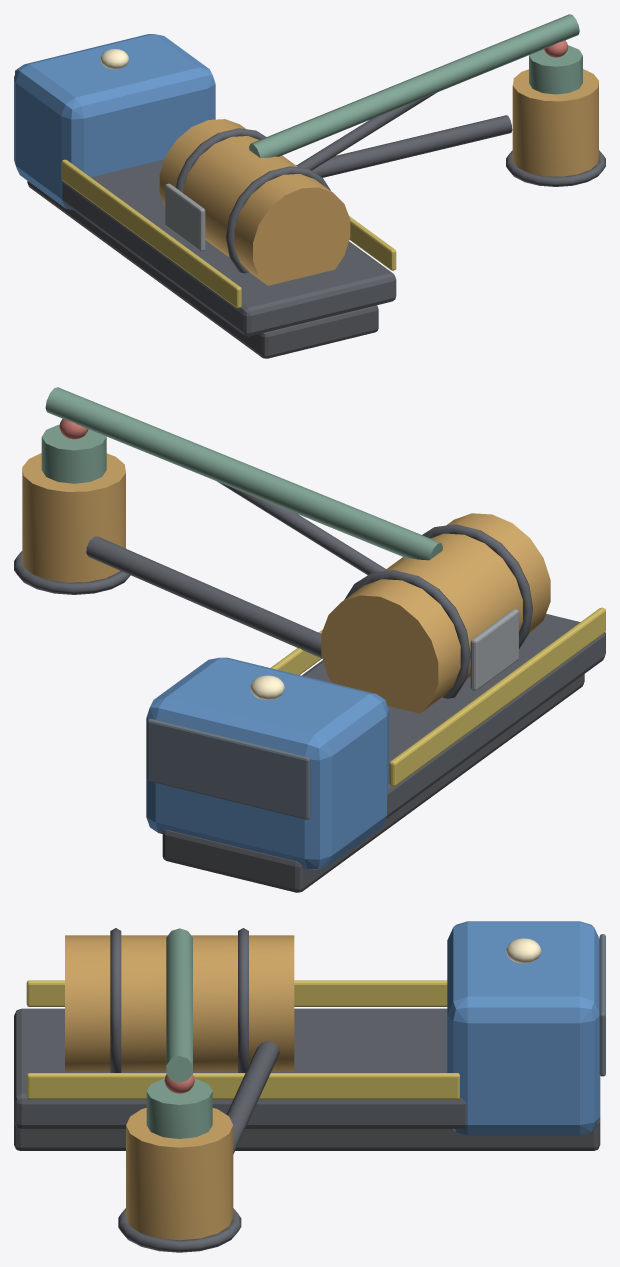
File: pump_truck.glb
The picture shows the model from 3 angles, top to bottom: view 1: azimuth 30°, elevation 25°; view 2: azimuth 150°, elevation 25°; view 3: azimuth 270°, elevation 25°; orthographic projection. The views are drawn at different scales.
Parts seen in each view (by area): view 1: pump_truck_Palette, pump_truck_Glow; view 2: pump_truck_Palette, pump_truck_Glow; view 3: pump_truck_Palette, pump_truck_Glow.
Boxes of the visible parts, x1=… form: pump_truck_Palette: x1=14, y1=14, x2=605, y2=358; pump_truck_Glow: x1=100, y1=49, x2=129, y2=69; pump_truck_Palette: x1=14, y1=387, x2=605, y2=892; pump_truck_Glow: x1=250, y1=675, x2=284, y2=700; pump_truck_Palette: x1=14, y1=921, x2=605, y2=1252; pump_truck_Glow: x1=506, y1=938, x2=541, y2=963.
Bounding box in the file's own units: 4.73 × 2.19 × 4.64.
